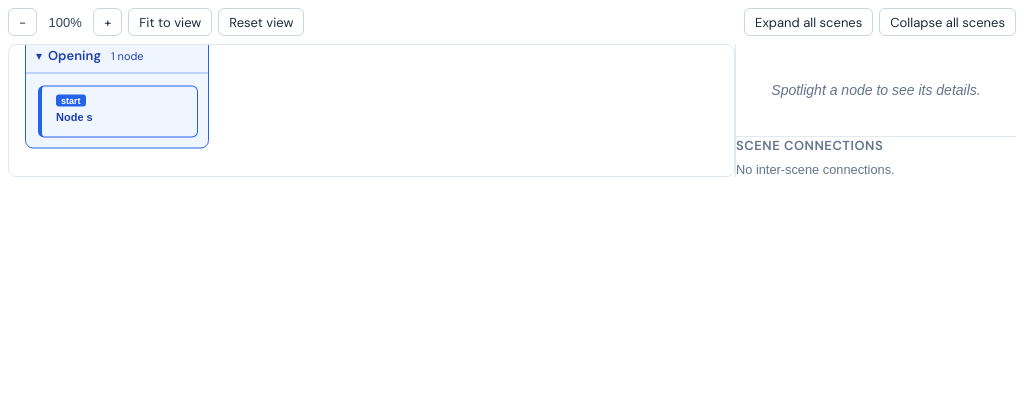
Test: CanvasView — Add choice from the canvas › adds a choice and its linked node in one step, then selects, spotlights and focuses it
Click the button with aria-label "Node s (start)": click(118, 112) [38, 86, 198, 138]
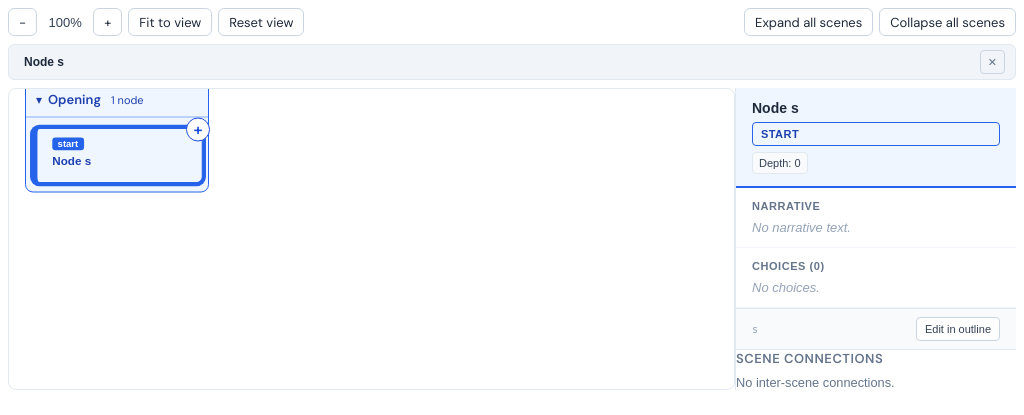
Click the button named "Add choice to ": click(198, 130) [186, 118, 210, 142]
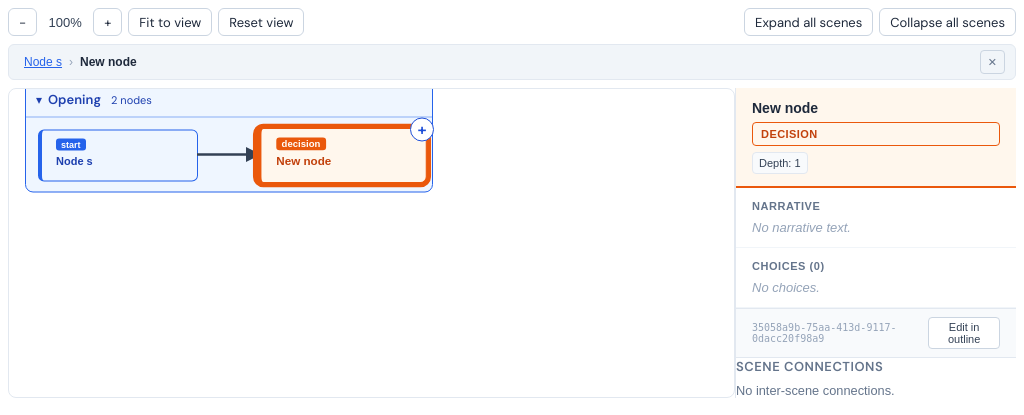
Expected: the heading "New node" is shown, [752, 100, 818, 116]
